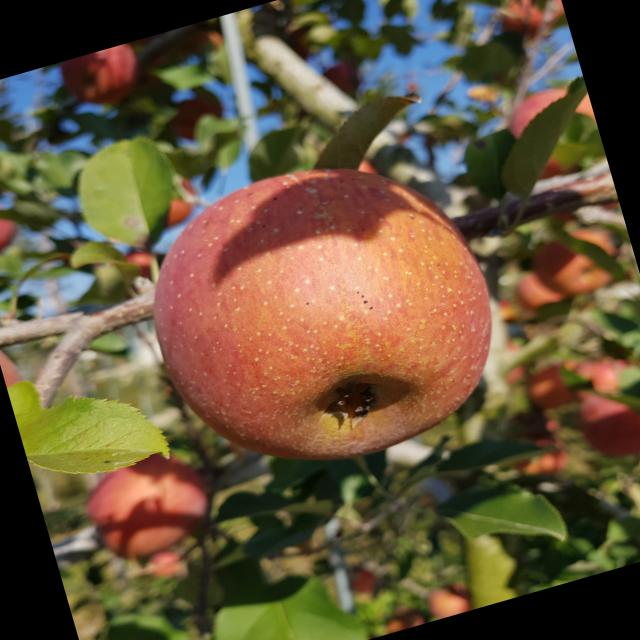fresh: (110, 113, 544, 513)
